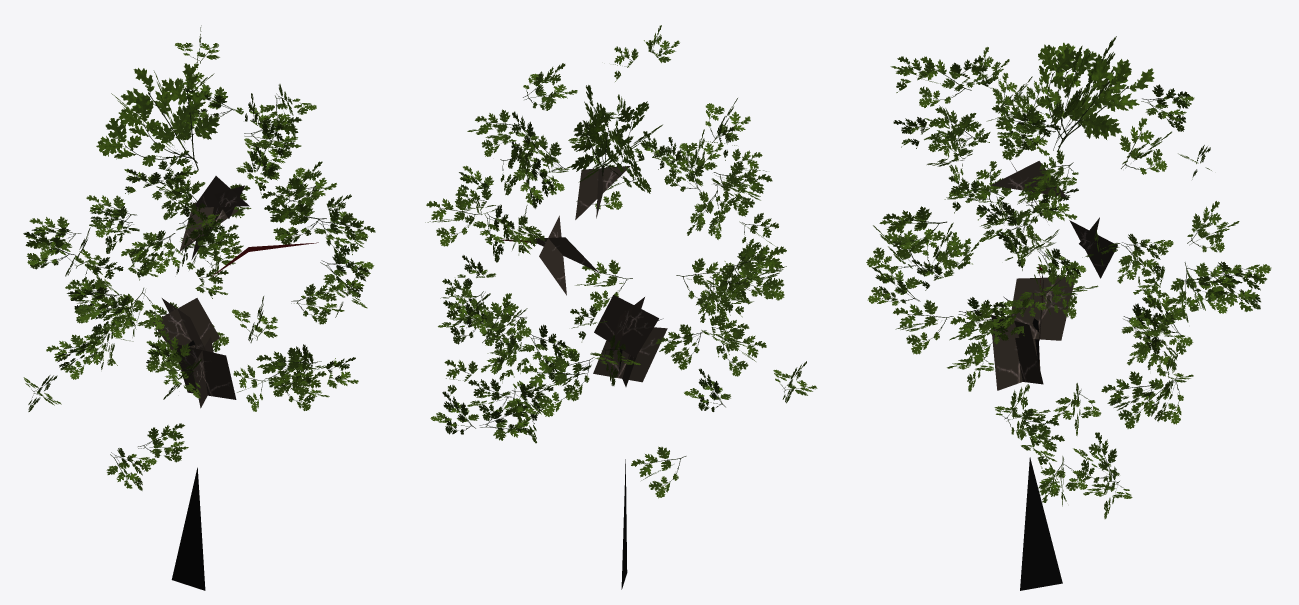
The model's file is maple2 lod4.FBX.
The picture shows the model from 3 angles, left to right: view 1: azimuth 30°, elevation 25°; view 2: azimuth 150°, elevation 25°; view 3: azimuth 270°, elevation 25°; orthographic projection. The views are drawn at different scales.
Visible parts, largest first — view 1: maple2_LOD4; view 2: maple2_LOD4; view 3: maple2_LOD4.
Boxes of the visible parts, x1,y1,x2,y2 form: maple2_LOD4: (23, 25, 375, 590); maple2_LOD4: (425, 25, 817, 589); maple2_LOD4: (866, 36, 1271, 590).
Size of the model in its own units: 85946 by 124796 by 85048.
